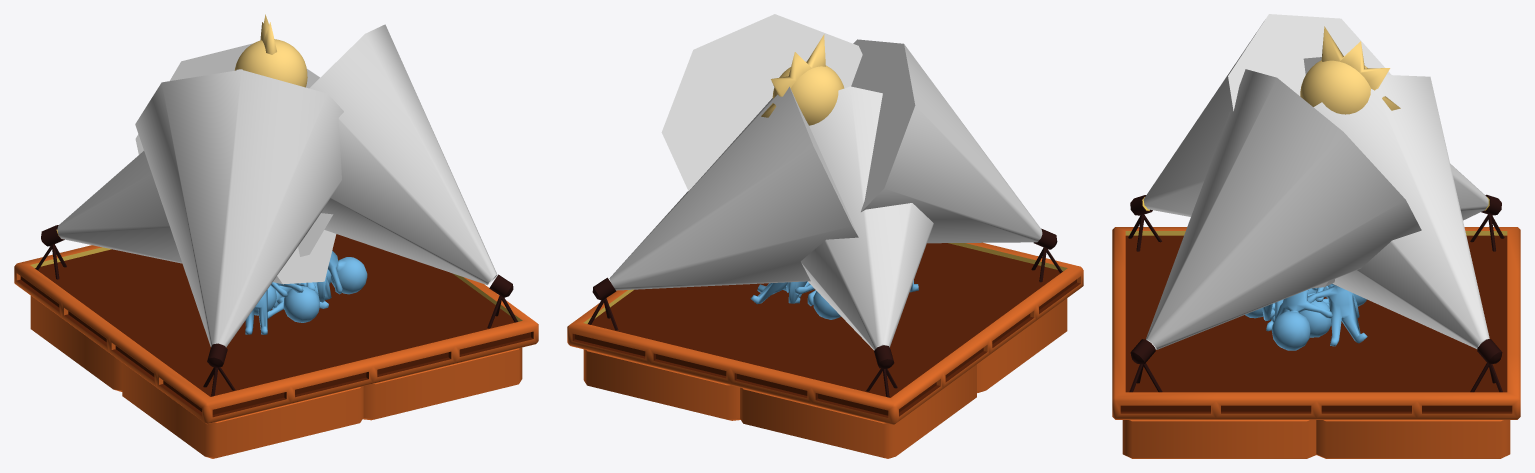
File: DespotStatue.fbx
The picture shows the model from 3 angles, left to right: view 1: azimuth 30°, elevation 25°; view 2: azimuth 150°, elevation 25°; view 3: azimuth 270°, elevation 25°; orthographic projection. The views are drawn at different scales.
Parts seen in each view (by area): view 1: Platformhigh, ProjectorLight.002, ProjectorLight.001, platformlow, ProjectorLight.003, Punk, ProjectorLight, New_Stickman.001, New_Stickman.010, New_Stickman.009, Projector3, Projector4 (+1 smaller); view 2: Platformhigh, ProjectorLight, ProjectorLight.002, platformlow, ProjectorLight.003, ProjectorLight.001, Punk, Projector4, Projector, Projector3, New_Stickman.003; view 3: Platformhigh, ProjectorLight.001, ProjectorLight, platformlow, ProjectorLight.002, Punk, New_Stickman.010, New_Stickman.008, ProjectorLight.003, Projector2, Projector, New_Stickman.002 (+2 smaller).
Part boxes in pixels (left/top/right/bottom): Platformhigh: left=14, top=234, right=538, bottom=424; ProjectorLight.002: left=135, top=69, right=343, bottom=347; ProjectorLight.001: left=309, top=24, right=497, bottom=285; platformlow: left=30, top=296, right=522, bottom=458; ProjectorLight.003: left=57, top=69, right=336, bottom=284; Punk: left=234, top=14, right=307, bottom=87; ProjectorLight: left=135, top=43, right=333, bottom=256; New_Stickman.001: left=267, top=286, right=328, bottom=322; New_Stickman.010: left=328, top=251, right=367, bottom=294; New_Stickman.009: left=245, top=282, right=287, bottom=334; Projector3: left=203, top=343, right=235, bottom=396; Projector4: left=35, top=225, right=66, bottom=279; Platformhigh: left=567, top=242, right=1083, bottom=424; ProjectorLight: left=609, top=86, right=858, bottom=290; ProjectorLight.002: left=851, top=39, right=1042, bottom=243; platformlow: left=583, top=298, right=1067, bottom=458; ProjectorLight.003: left=801, top=86, right=933, bottom=350; ProjectorLight.001: left=661, top=14, right=862, bottom=191; Punk: left=761, top=34, right=844, bottom=125; Projector4: left=866, top=345, right=897, bottom=397; Projector: left=588, top=277, right=618, bottom=330; Projector3: left=1031, top=228, right=1062, bottom=282; New_Stickman.003: left=795, top=284, right=840, bottom=319; Platformhigh: left=1112, top=227, right=1520, bottom=419; ProjectorLight.001: left=1146, top=69, right=1421, bottom=349; ProjectorLight: left=1313, top=75, right=1489, bottom=348; platformlow: left=1122, top=420, right=1510, bottom=458; ProjectorLight.002: left=1143, top=14, right=1391, bottom=216; Punk: left=1300, top=26, right=1400, bottom=114; New_Stickman.010: left=1271, top=290, right=1332, bottom=350; New_Stickman.008: left=1307, top=283, right=1367, bottom=346; ProjectorLight.003: left=1303, top=57, right=1488, bottom=288; Projector2: left=1129, top=339, right=1162, bottom=392; Projector: left=1470, top=339, right=1502, bottom=392; New_Stickman.002: left=1272, top=292, right=1331, bottom=337.
Size of the model in its own units: 8 by 7.65 by 8.
